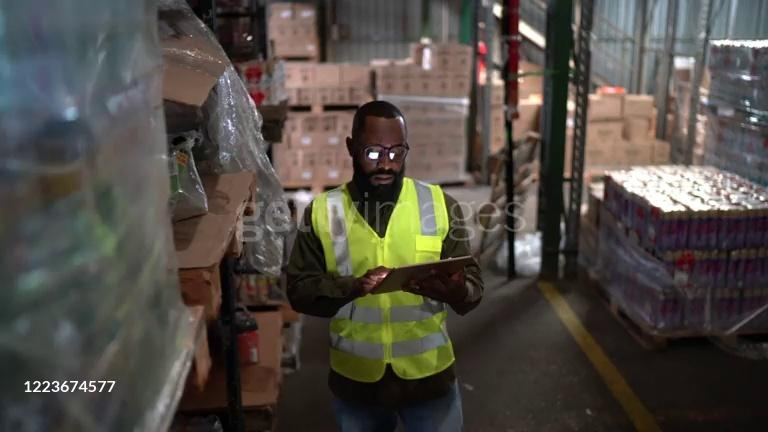person: (285, 101, 485, 432)
